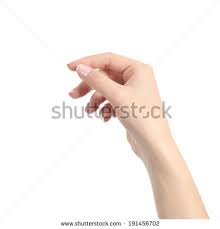hand: (59, 41, 176, 163)
